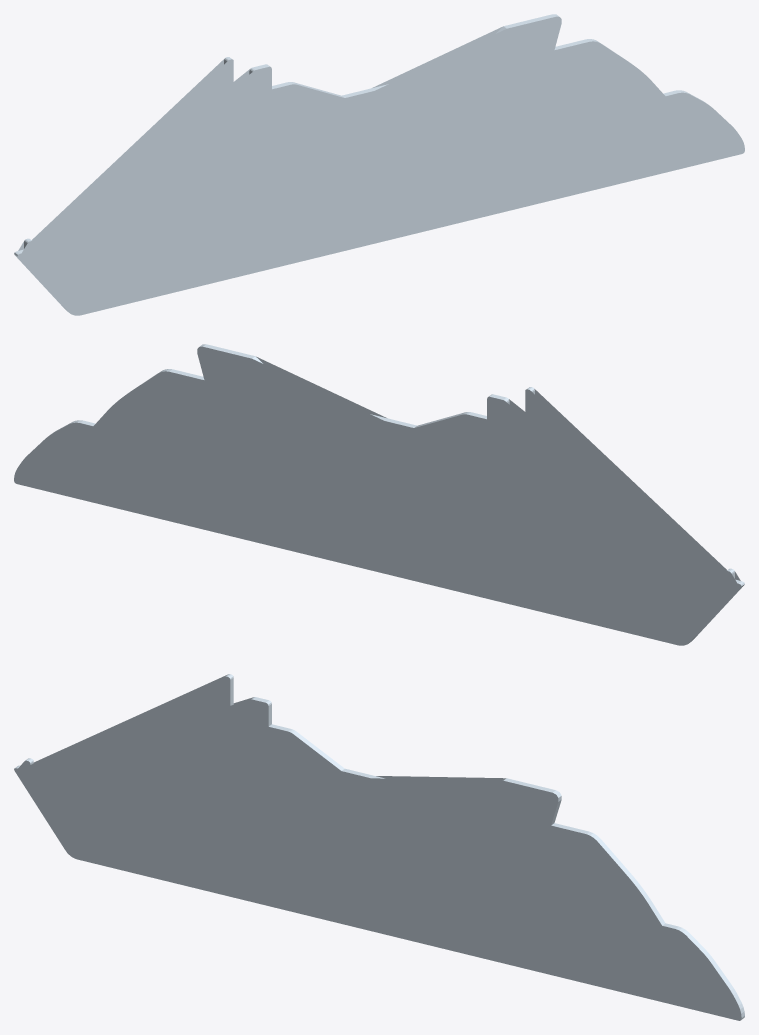
The model's file is Boat_3D_Icon_03.fbx.
The picture shows the model from 3 angles, top to bottom: view 1: azimuth 30°, elevation 25°; view 2: azimuth 150°, elevation 25°; view 3: azimuth 330°, elevation 25°; orthographic projection.
Parts seen in each view (by area): view 1: Boat_3D_Icon_01; view 2: Boat_3D_Icon_01; view 3: Boat_3D_Icon_01.
Part boxes in pixels (x1,y1,x2,y2): Boat_3D_Icon_01: (14, 14, 744, 315); Boat_3D_Icon_01: (14, 344, 744, 645); Boat_3D_Icon_01: (14, 674, 744, 1020).
Size of the model in its own units: 248 by 71.28 by 2.
